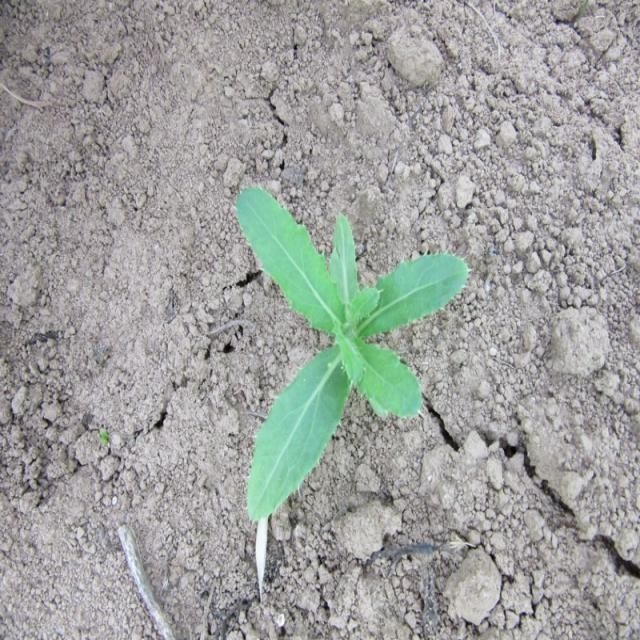field_thistle: (227, 182, 470, 561)
